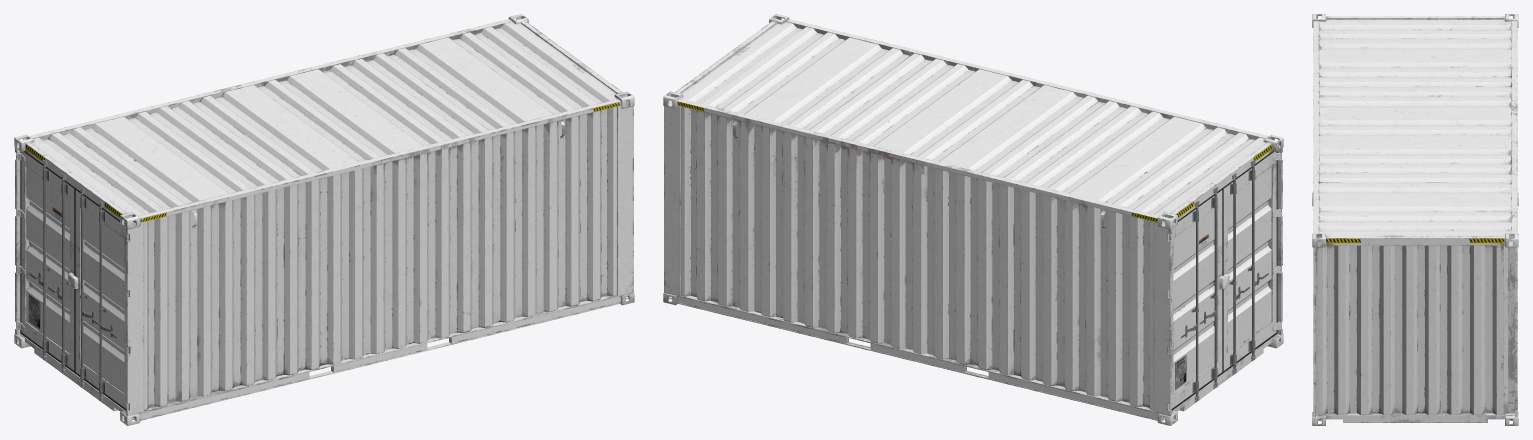
File: SM_Container.fbx
The picture shows the model from 3 angles, left to right: view 1: azimuth 30°, elevation 25°; view 2: azimuth 150°, elevation 25°; view 3: azimuth 270°, elevation 25°; orthographic projection. The views are drawn at different scales.
Parts seen in each view (by area): view 1: SM_Container_LOD0; view 2: SM_Container_LOD0; view 3: SM_Container_LOD0.
Boxes of the visible parts, box(x1,y1,x2,y2) form: SM_Container_LOD0: box(14, 14, 634, 425); SM_Container_LOD0: box(663, 14, 1283, 425); SM_Container_LOD0: box(1312, 14, 1518, 425).
Size of the model in its own units: 744 by 288 by 288.
Materials: 1 (1 with a texture image).
